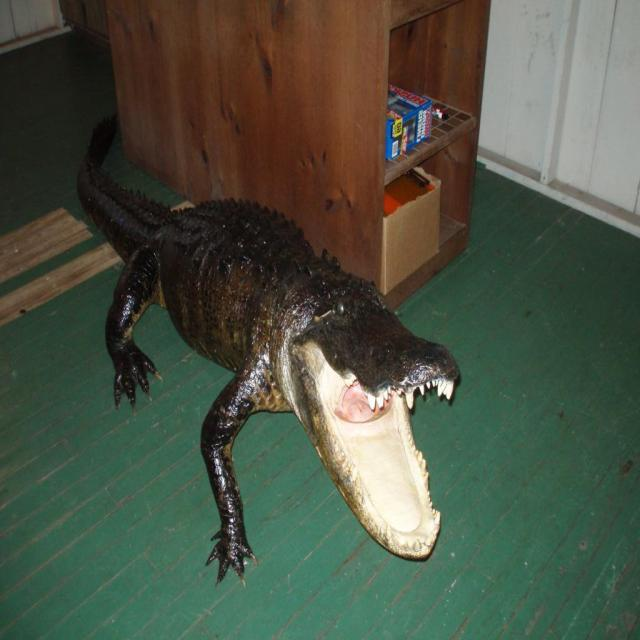crocodile: (77, 111, 463, 579)
